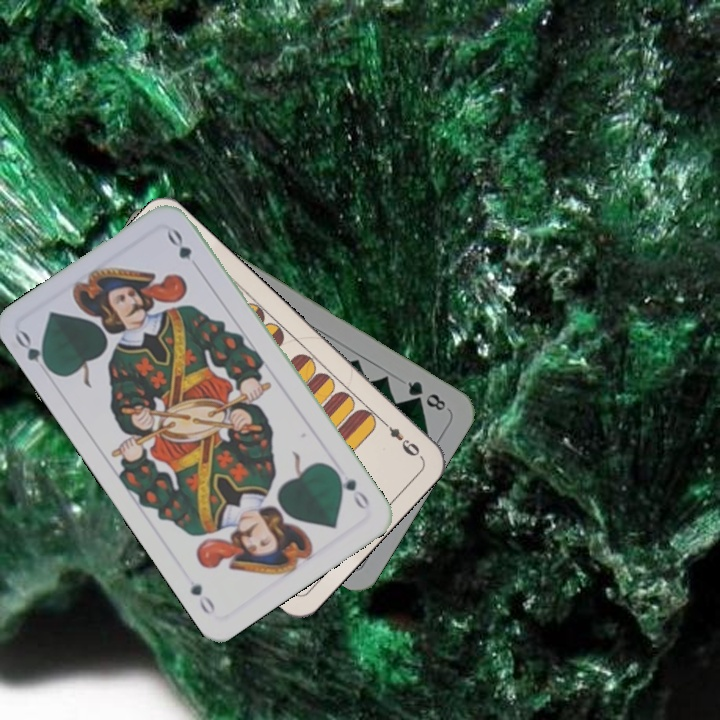E9: (377, 415, 424, 460)
G8: (403, 377, 449, 414)
GO: (11, 327, 57, 376), (329, 465, 373, 513)
